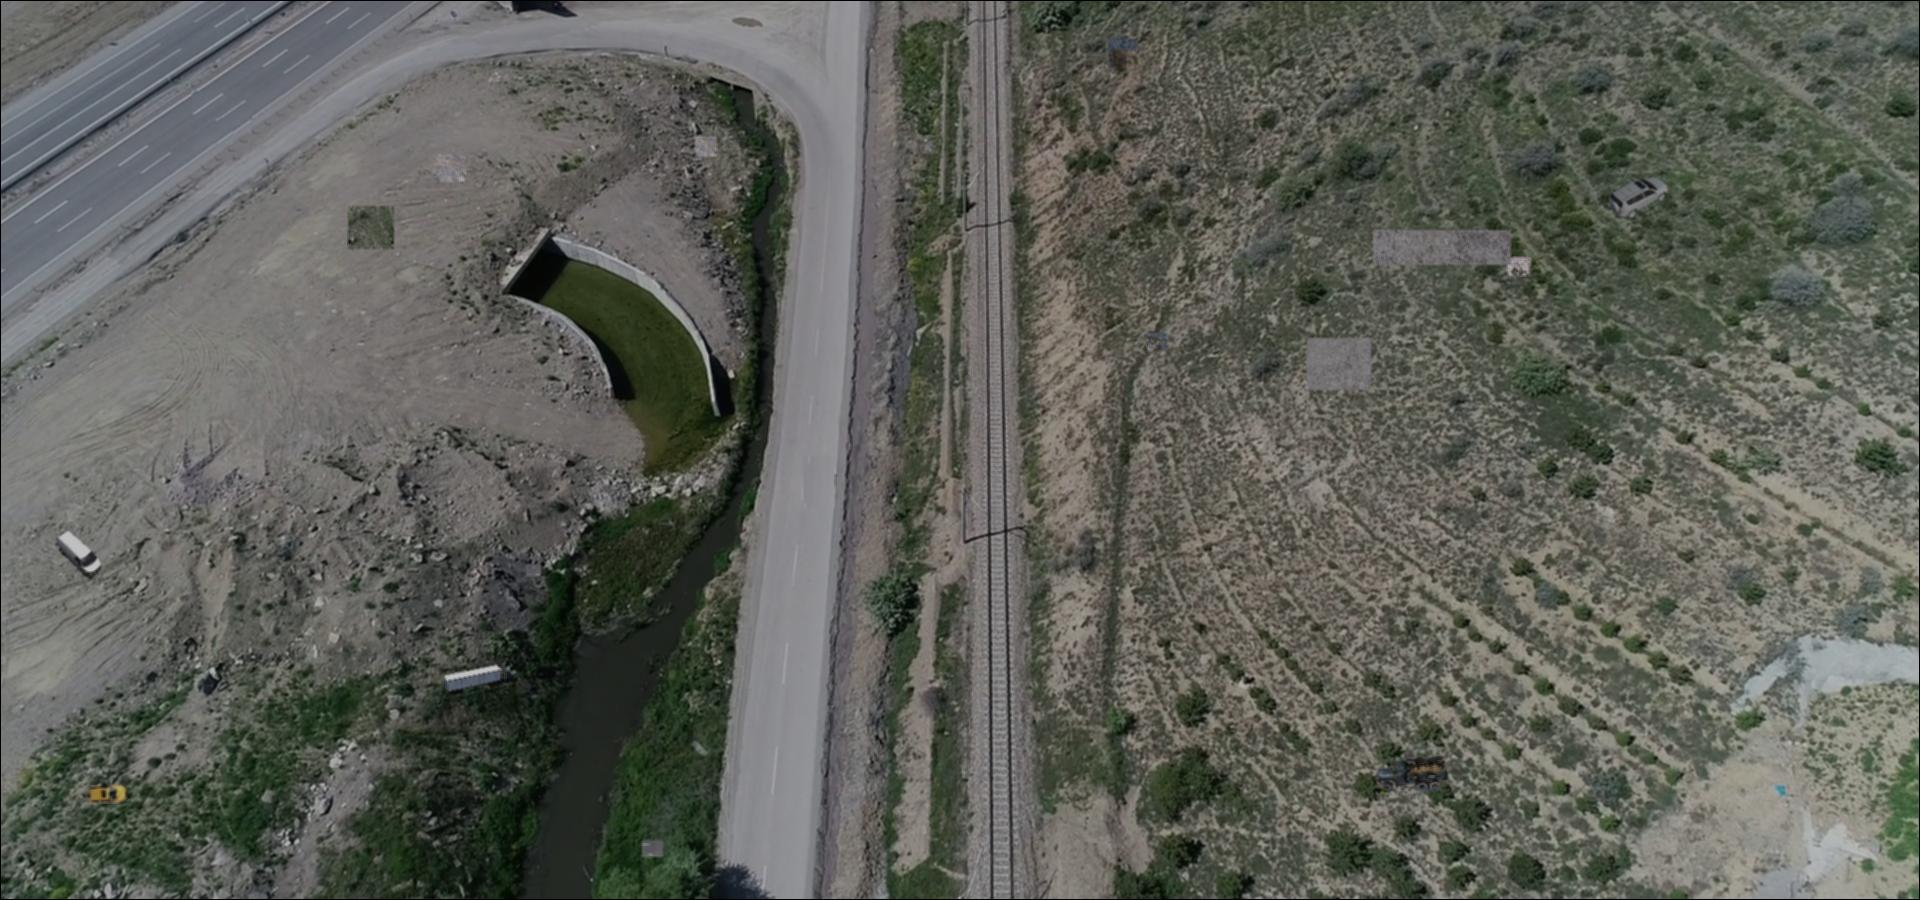arac: (1608, 174, 1668, 220), (1376, 756, 1449, 793), (442, 664, 520, 696), (56, 529, 102, 577), (86, 782, 127, 806)
